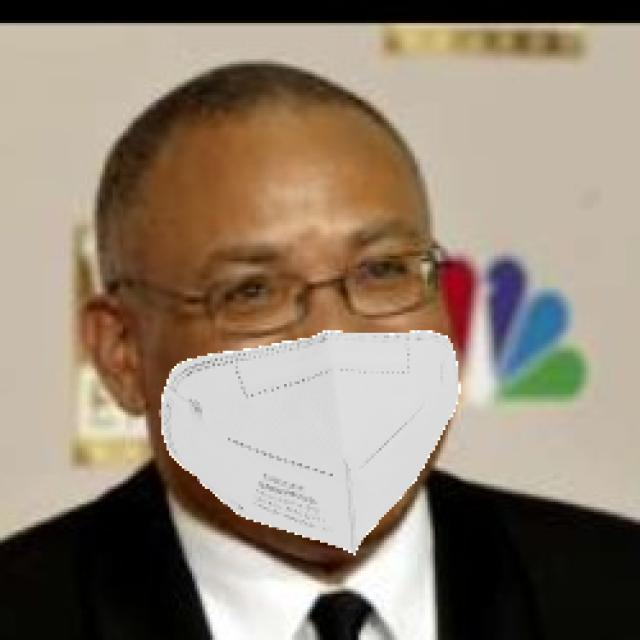mask: (142, 343, 492, 571)
